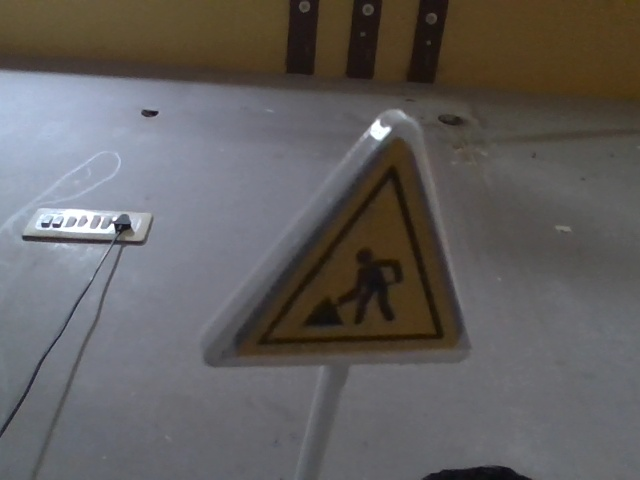workinprogress: (162, 124, 502, 372)
